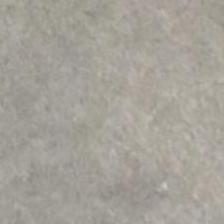Non_Crack: (23, 18, 213, 178)
